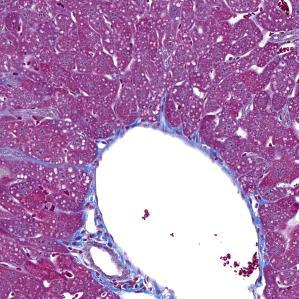fibrosis: (73, 222, 138, 291)
